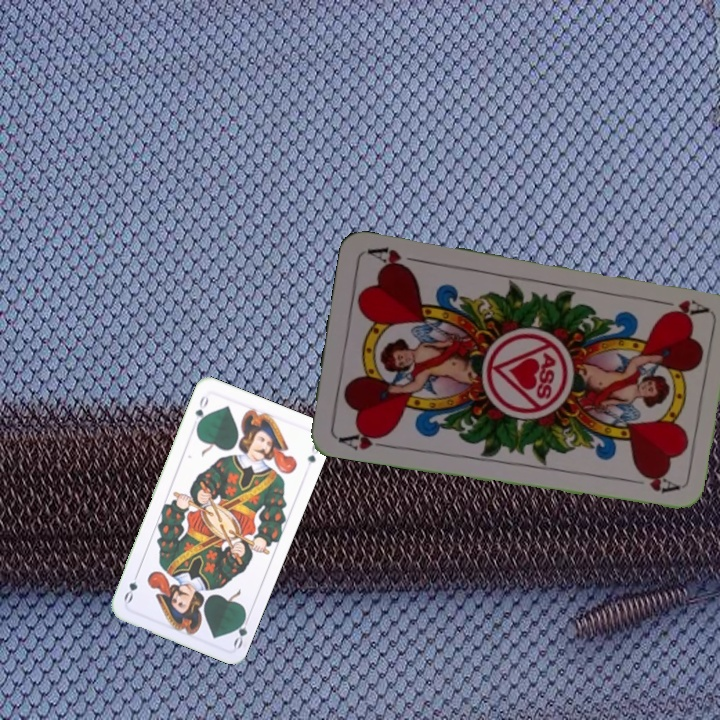GO: (229, 610, 253, 651), (191, 391, 211, 431)
HA: (334, 425, 392, 453), (650, 295, 709, 319)
